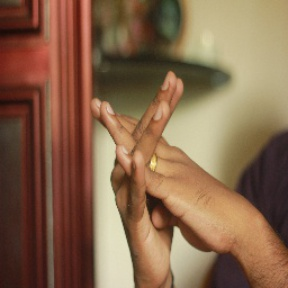W: (94, 67, 200, 238)
